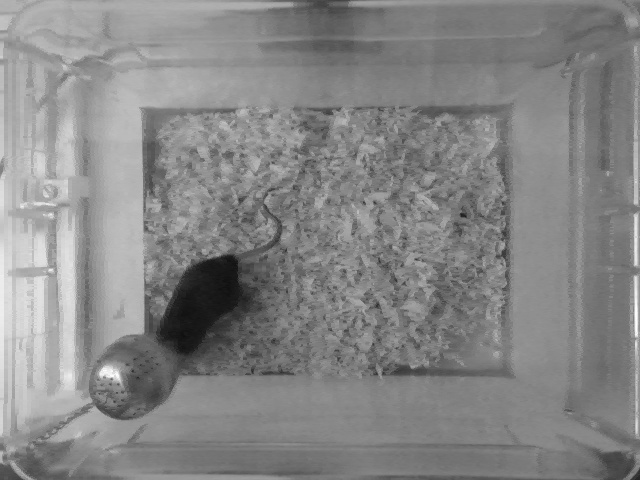mice: (154, 194, 284, 355)
